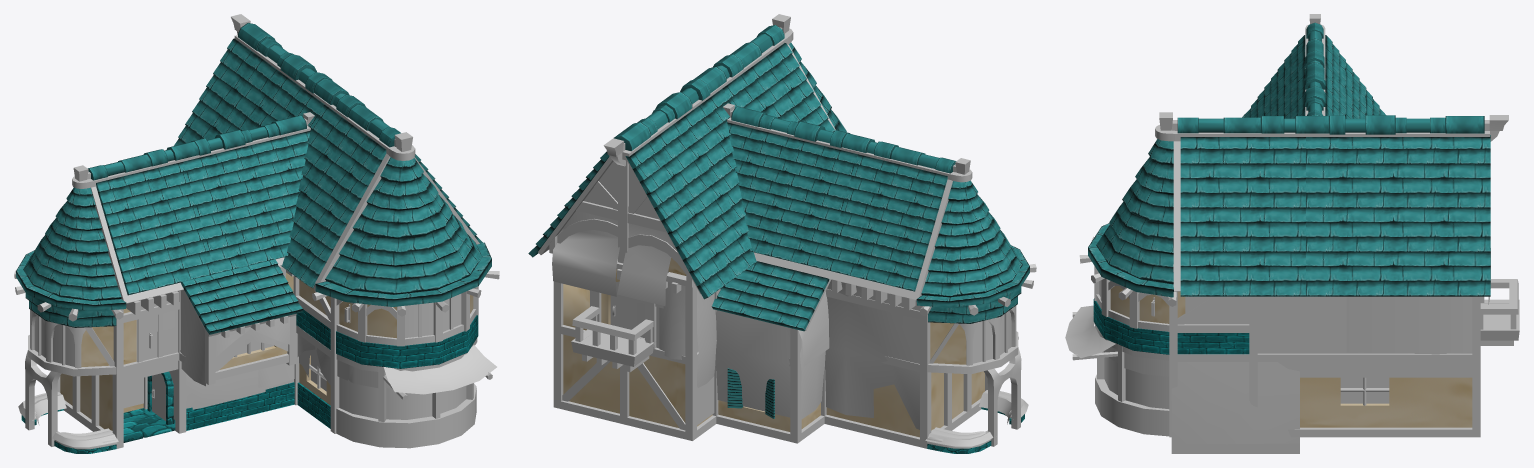
File: house_ex.fbx
The picture shows the model from 3 angles, left to right: view 1: azimuth 30°, elevation 25°; view 2: azimuth 150°, elevation 25°; view 3: azimuth 270°, elevation 25°; orthographic projection. The views are drawn at different scales.
Visible parts, largest first — view 1: roof; view 2: roof; view 3: roof.
Part boxes in pixels (bbox=[...]): roof: bbox=[14, 14, 499, 453]; roof: bbox=[528, 14, 1036, 453]; roof: bbox=[1065, 14, 1519, 453].
Bounding box in the file's own units: 808 × 590 × 794.
